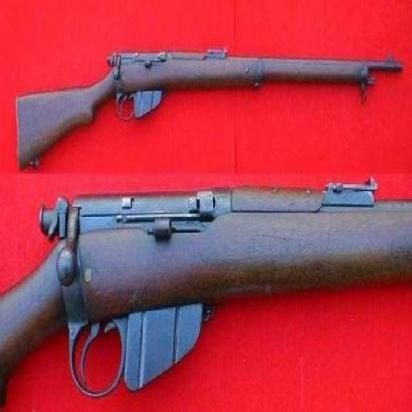Gun: (0, 165, 411, 411), (11, 33, 410, 158)
